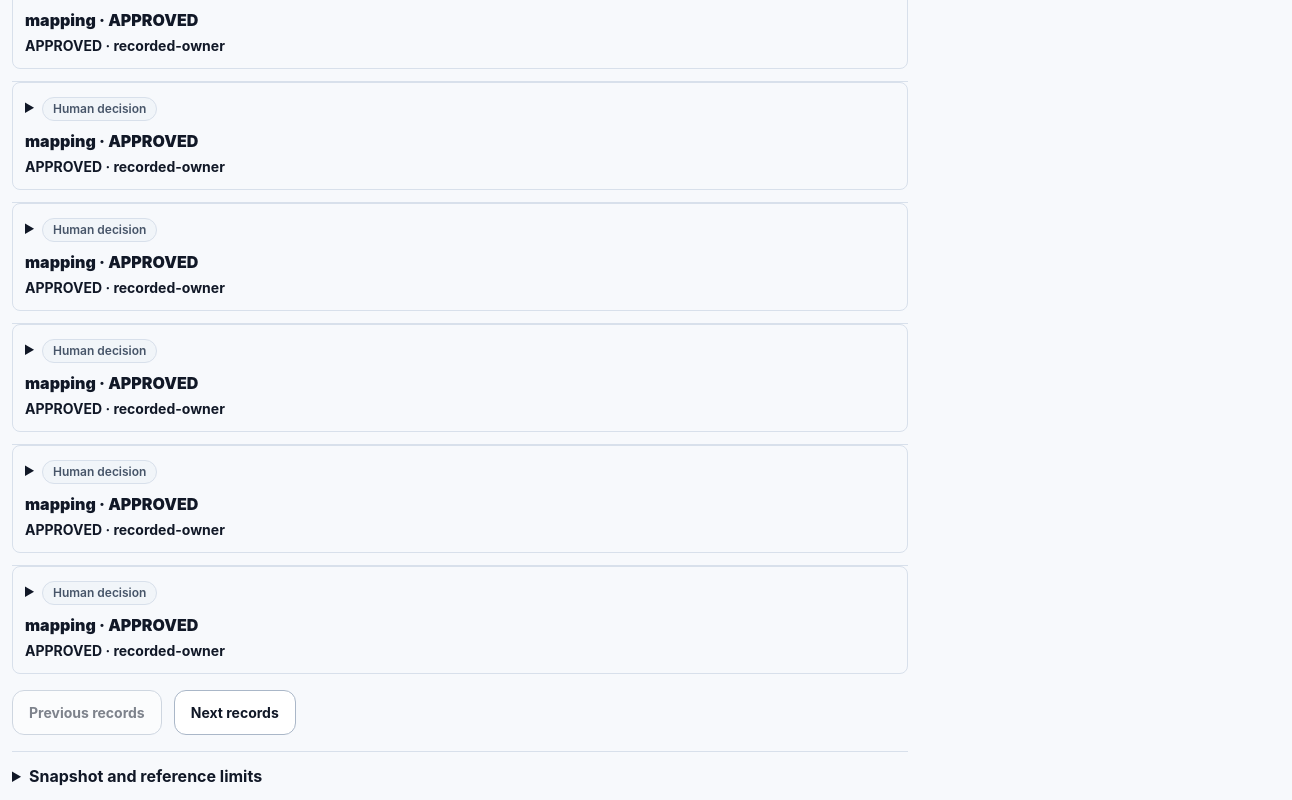
Test: supplied evidence and human governance › resets paging when filtering and distinguishes empty evidence from approval
(page scrolled)
Step 1. Click the button "Next records" → (235, 713), box [174,690,296,735]
(page scrolled)
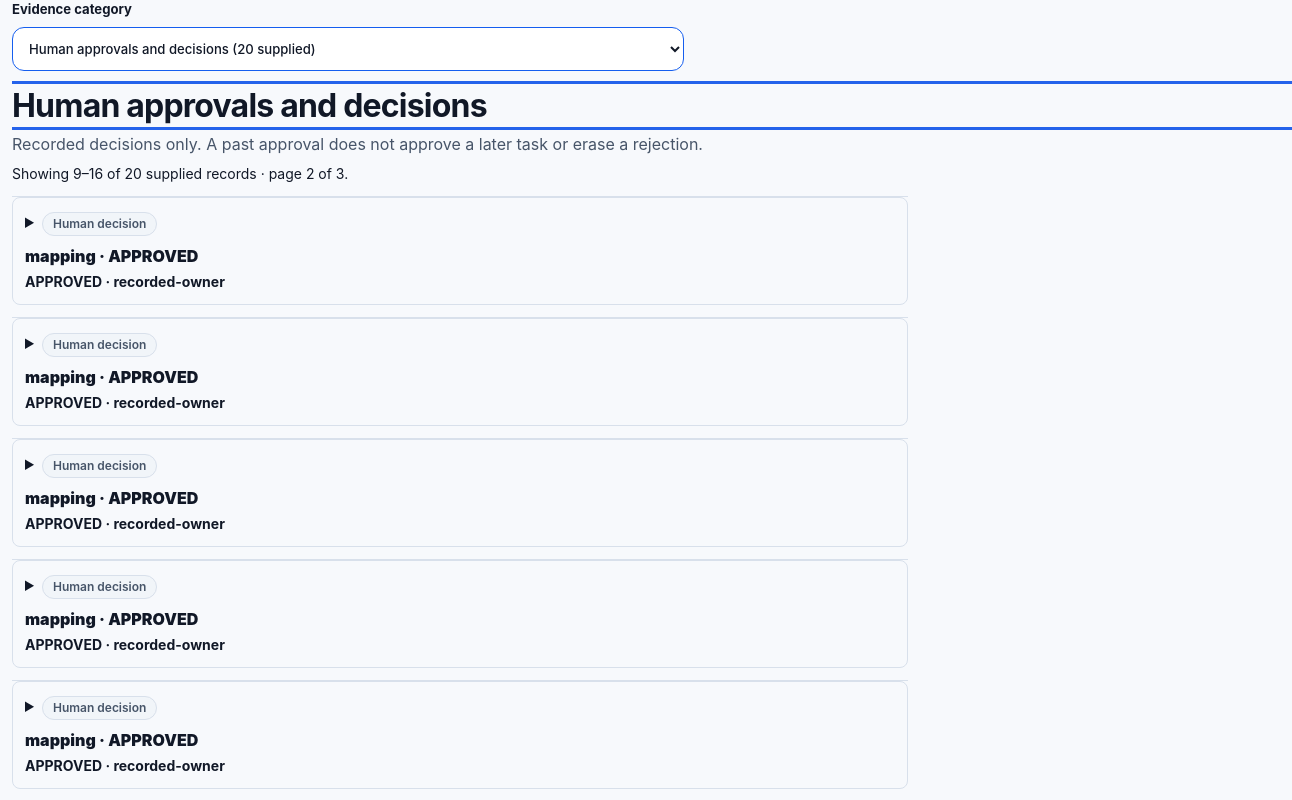
Step 2. Select "Deterministic checks (0 supplied)" in the dropdown labelled "Evidence category" → (348, 49), box [12,27,684,71]
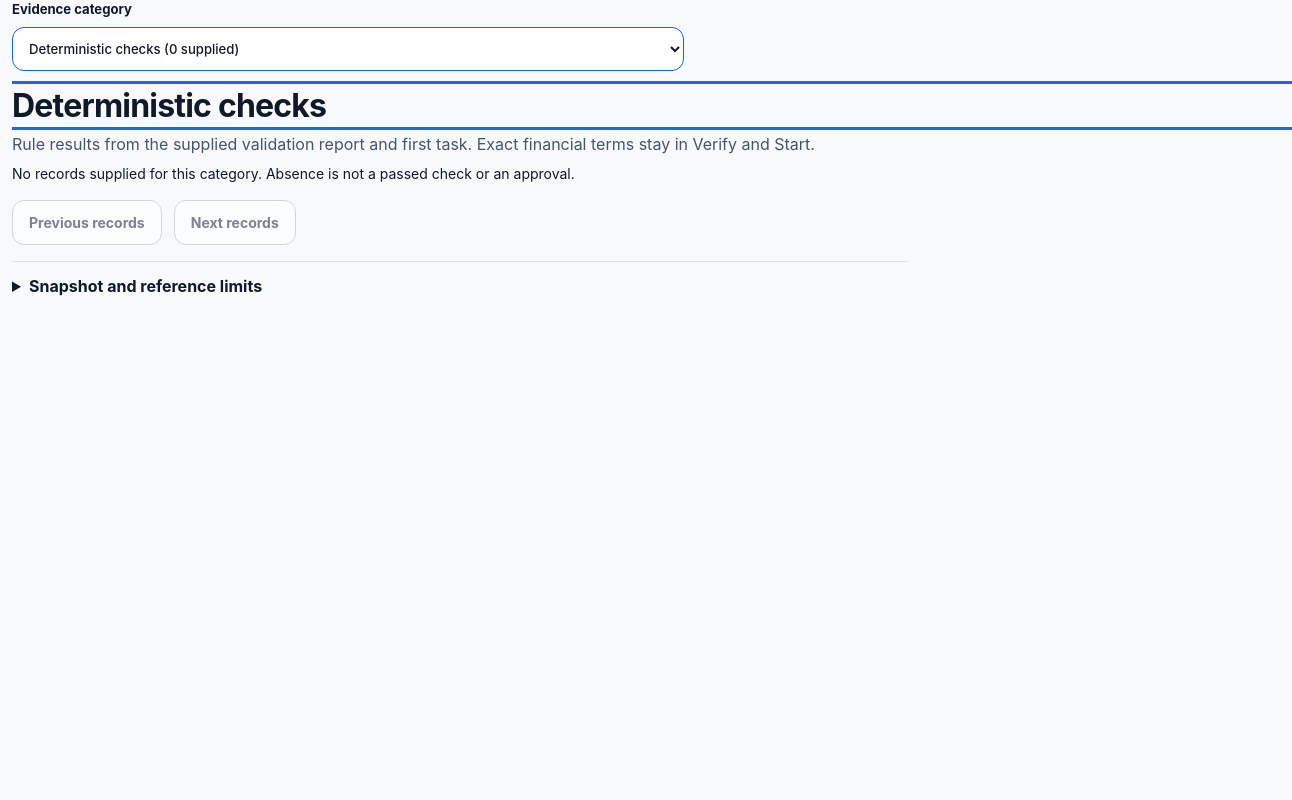
expect the message shows "Absence is not a passed check or an approval": met, box [12,165,575,182]
expect the button "Previous records" is disabled: met, box [12,200,162,245]
Step 3. Select "Human approvals and decisions (20 supplied)" in the dropdown labelled "Evidence category" → (348, 49), box [12,27,684,71]
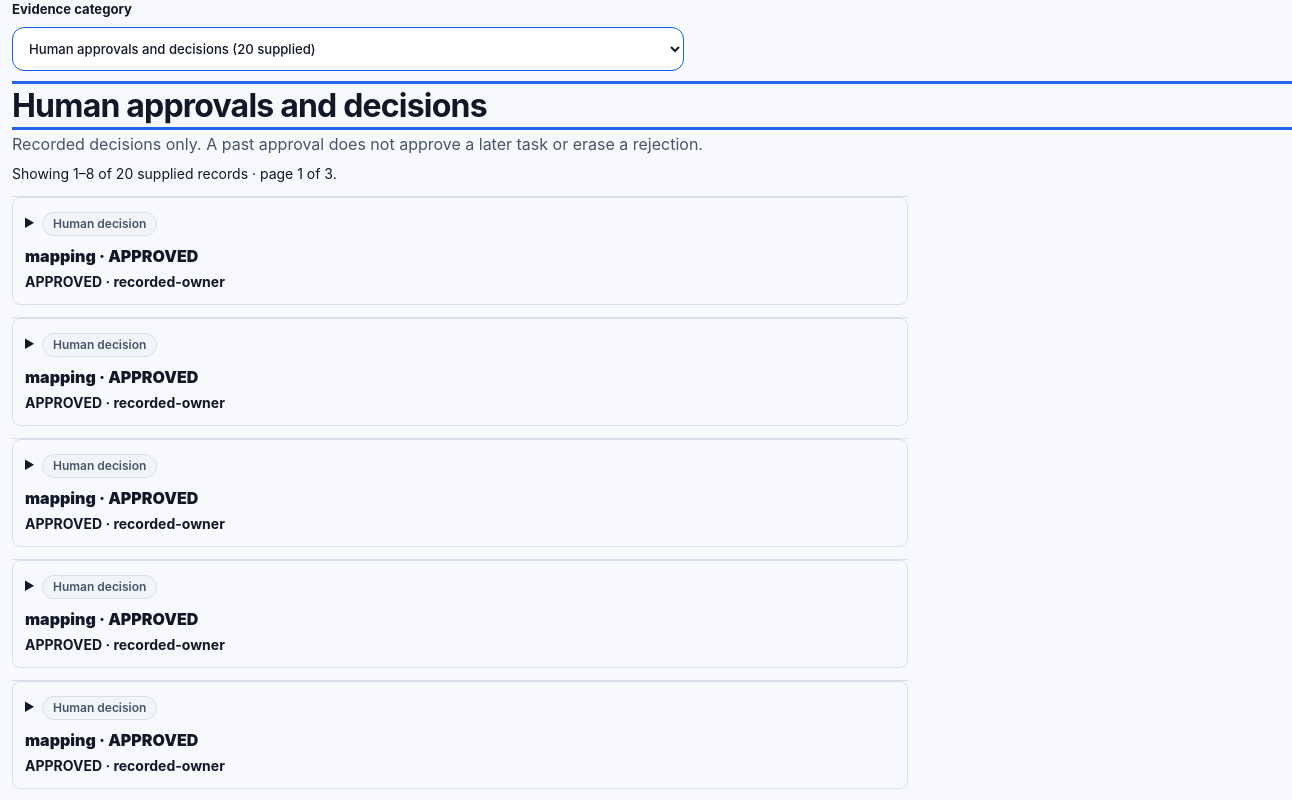
expect the message shows "1–8 of 20": met, box [12,165,337,182]
